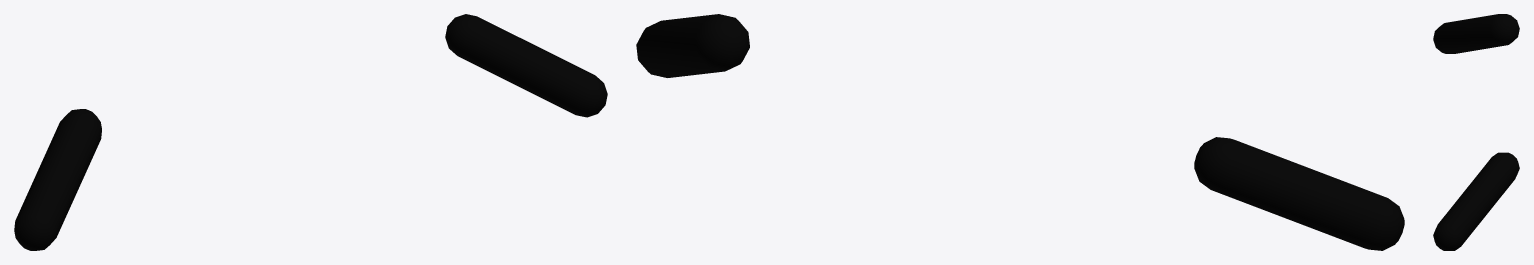
The model's file is Eyebrows_MM_Scared.fbx.
3 views of the same model, side by side, from view 1: azimuth 30°, elevation 25°; view 2: azimuth 150°, elevation 25°; view 3: azimuth 270°, elevation 25° (orthographic). The views are drawn at different scales.
Visible parts, largest first — view 1: Eye_Open; view 2: Eye_Open; view 3: Eye_Open.
Part boxes in pixels (x1=…): Eye_Open: x1=14, y1=14, x2=607, y2=250; Eye_Open: x1=636, y1=14, x2=1404, y2=250; Eye_Open: x1=1433, y1=14, x2=1519, y2=250.
Bounding box in the file's own units: 14.65 × 2.2 × 2.55.
